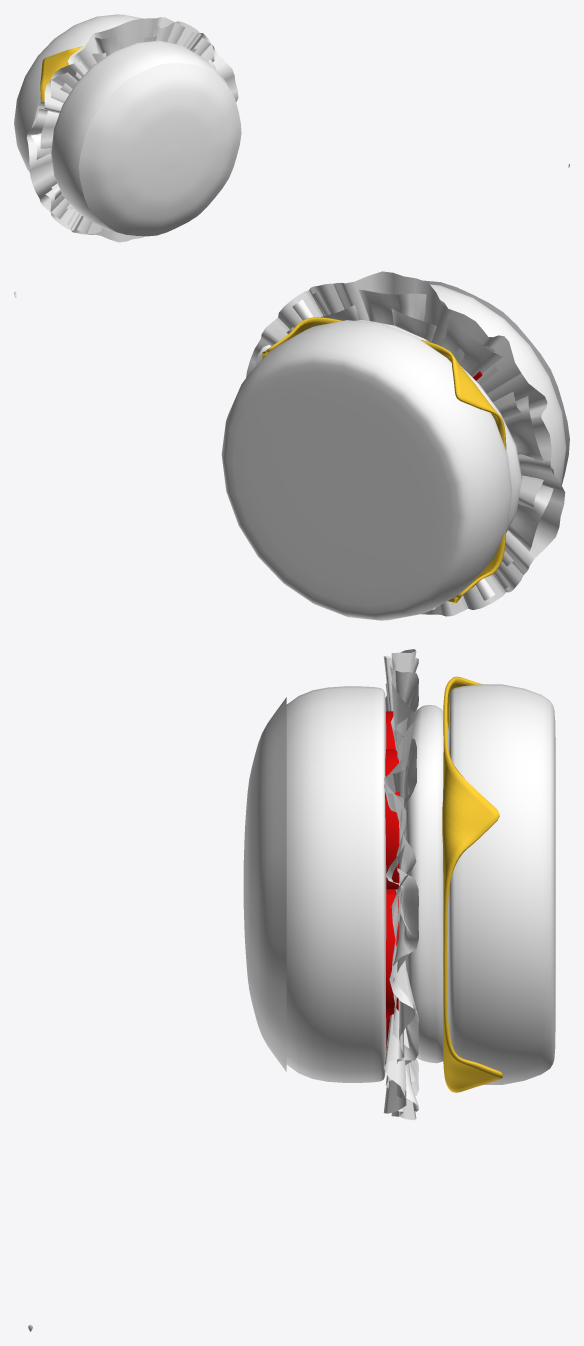
The model's file is hamburger.gltf.
3 renders of one model, top to bottom at view 1: azimuth 30°, elevation 25°; view 2: azimuth 150°, elevation 25°; view 3: azimuth 270°, elevation 25°, orthographic. The views are drawn at different scales.
Parts seen in each view (by area): view 1: topping_particle, top, veg.002, veg, buttom, veg.001, chesse; view 2: buttom, veg.002, veg, top, chesse, veg.001, meat, topping_particle; view 3: top, buttom, topping_particle, meat, chesse, veg, veg.002, totato, veg.001.
Part boxes in pixels (x1,y1,x2,y2): topping_particle: (79, 63, 241, 236); top: (51, 40, 228, 235); veg.002: (26, 21, 238, 234); veg: (31, 17, 214, 242); buttom: (14, 14, 142, 172); veg.001: (40, 36, 215, 209); chesse: (40, 46, 82, 101); buttom: (221, 320, 511, 620); veg.002: (246, 283, 565, 609); veg: (254, 271, 554, 616); top: (430, 284, 566, 483); chesse: (262, 317, 506, 603); veg.001: (286, 305, 543, 566); meat: (355, 320, 522, 532); topping_particle: (423, 280, 569, 485); top: (286, 686, 386, 1082); buttom: (448, 684, 555, 1084); topping_particle: (243, 697, 286, 1071); meat: (396, 705, 448, 1063); chesse: (442, 676, 503, 1092); veg: (383, 649, 418, 1120); veg.002: (383, 658, 418, 1111); totato: (385, 711, 399, 1049); veg.001: (385, 683, 416, 1088).
Size of the model in its own units: 5 by 2.33 by 2.54.
